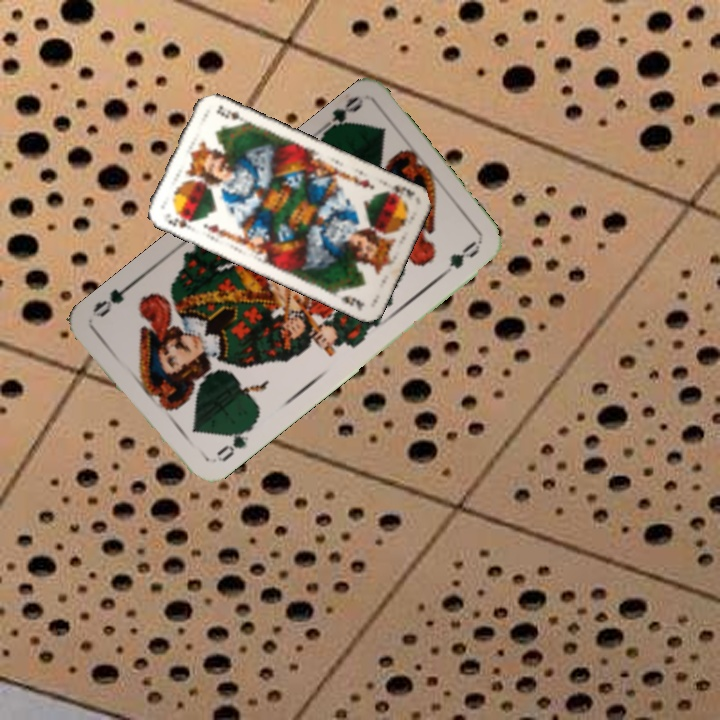GO: (313, 92, 366, 140), (213, 424, 255, 465)
SK: (379, 181, 418, 201), (163, 210, 196, 232)
